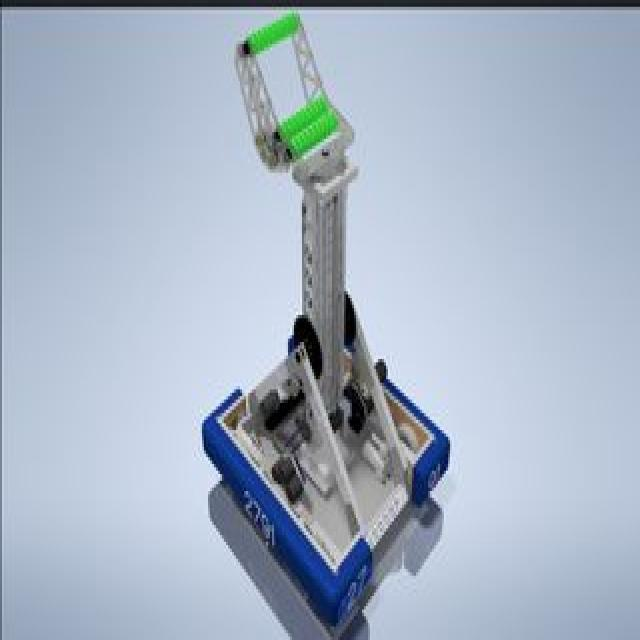robot: (202, 0, 468, 622)
